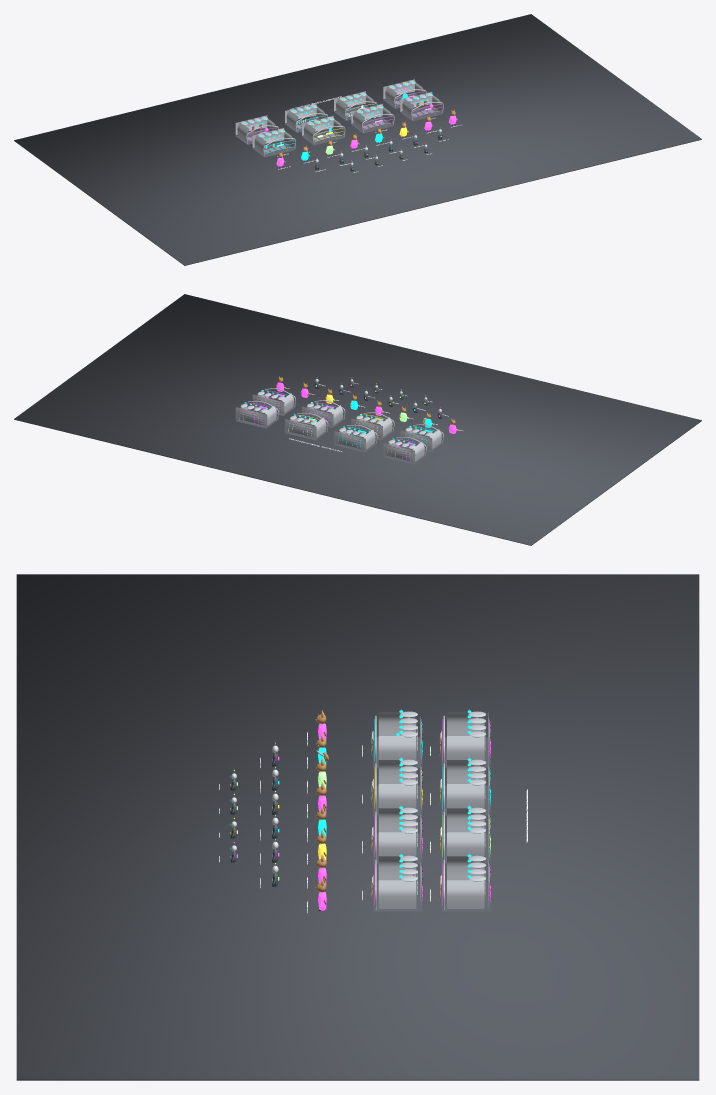
File: lunar-city-hero-assets.glb
3 renders of one model, top to bottom at view 1: azimuth 30°, elevation 25°; view 2: azimuth 150°, elevation 25°; view 3: azimuth 270°, elevation 25°, orthographic. The views are drawn at different scales.
Parts seen in each view (by area): view 1: hero_asset_review_floor; view 2: hero_asset_review_floor, council-hall_single_piece_back_hull_skin; view 3: hero_asset_review_floor, archive_right_continuous_buttress_skin, council-hall_right_continuous_buttress_skin, review-office_right_continuous_buttress_skin, triage-clinic_right_continuous_buttress_skin, arts-studio_right_continuous_buttress_skin, research-lab_right_continuous_buttress_skin, engineering-workshop_right_continuous_buttress_skin, library_right_continuous_buttress_skin.
Part boxes in pixels (left/top/right/bottom): hero_asset_review_floor: left=14, top=14, right=701, bottom=265; hero_asset_review_floor: left=14, top=294, right=701, bottom=545; council-hall_single_piece_back_hull_skin: left=235, top=407, right=267, bottom=426; hero_asset_review_floor: left=16, top=574, right=699, bottom=1080; archive_right_continuous_buttress_skin: left=378, top=880, right=416, bottom=908; council-hall_right_continuous_buttress_skin: left=447, top=880, right=484, bottom=908; review-office_right_continuous_buttress_skin: left=378, top=832, right=416, bottom=856; triage-clinic_right_continuous_buttress_skin: left=378, top=784, right=416, bottom=808; arts-studio_right_continuous_buttress_skin: left=447, top=832, right=484, bottom=856; research-lab_right_continuous_buttress_skin: left=447, top=784, right=484, bottom=808; engineering-workshop_right_continuous_buttress_skin: left=378, top=736, right=416, bottom=759; library_right_continuous_buttress_skin: left=447, top=736, right=484, bottom=759.
Size of the model in its own units: 84 by 2.87 by 48.
